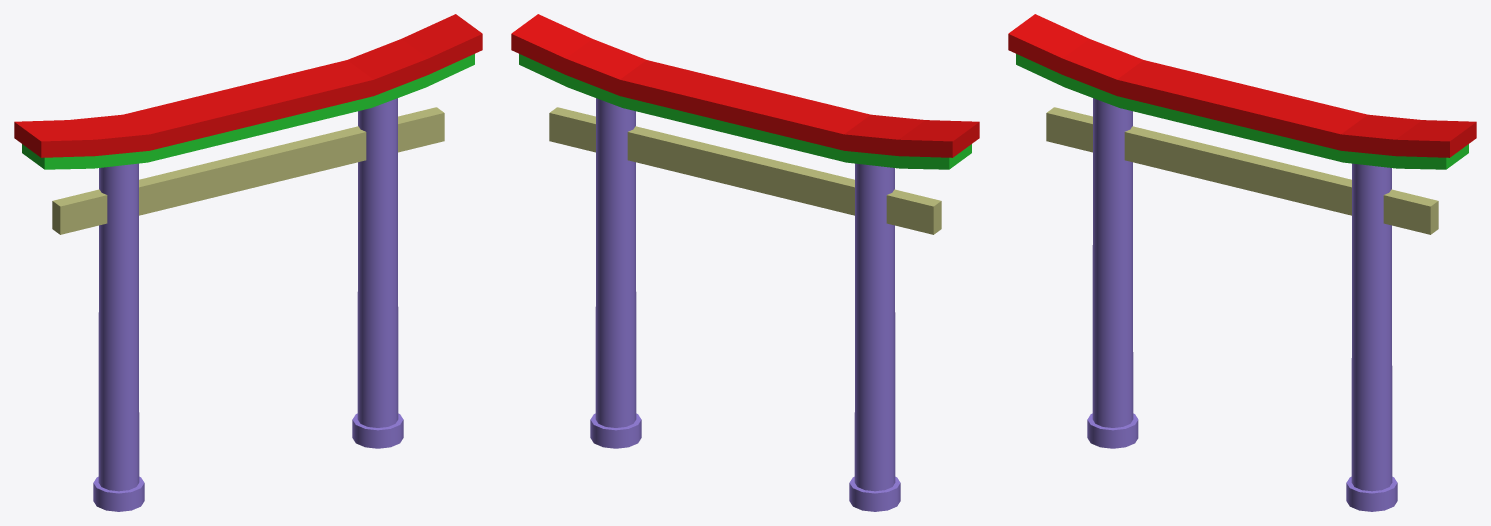
File: Torii.FBX
3 renders of one model, left to right at view 1: azimuth 30°, elevation 25°; view 2: azimuth 150°, elevation 25°; view 3: azimuth 330°, elevation 25°, orthographic.
Visible parts, largest first — view 1: Torii, Box614, Box612, Box613; view 2: Torii, Box614, Box612, Box613; view 3: Torii, Box614, Box612, Box613.
Boxes of the visible parts, bbox=[...] form: Torii: bbox=[93, 98, 403, 511]; Box614: bbox=[14, 14, 482, 157]; Box612: bbox=[52, 107, 444, 234]; Box613: bbox=[22, 54, 474, 169]; Torii: bbox=[590, 98, 900, 511]; Box614: bbox=[511, 14, 979, 157]; Box612: bbox=[549, 107, 941, 234]; Box613: bbox=[519, 54, 971, 169]; Torii: bbox=[1087, 98, 1397, 511]; Box614: bbox=[1008, 14, 1476, 157]; Box612: bbox=[1046, 107, 1438, 234]; Box613: bbox=[1016, 54, 1468, 169].
Size of the model in its own units: 197 by 167 by 20.77.
